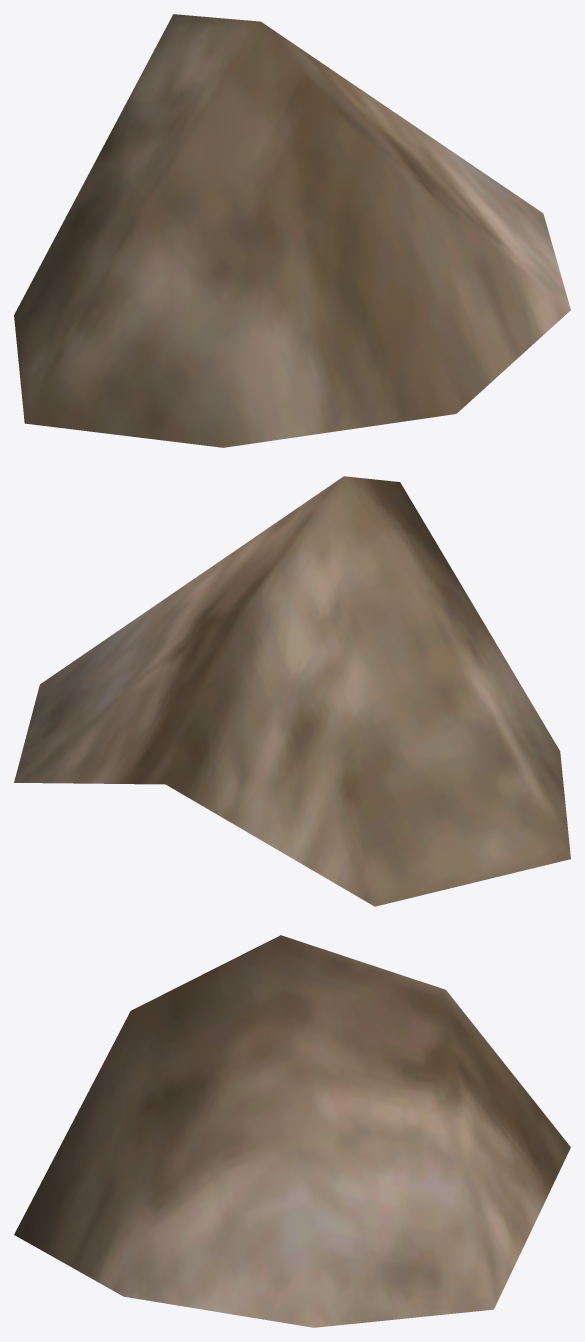
Rendered from OVERHILL_A_01_ROCK66.fbx.
The picture shows the model from 3 angles, top to bottom: view 1: azimuth 30°, elevation 25°; view 2: azimuth 150°, elevation 25°; view 3: azimuth 270°, elevation 25°; orthographic projection. The views are drawn at different scales.
Parts seen in each view (by area): view 1: OVERHILL_A_01_ROCK66; view 2: OVERHILL_A_01_ROCK66; view 3: OVERHILL_A_01_ROCK66.
Part boxes in pixels (x1,y1,x2,y2): OVERHILL_A_01_ROCK66: (14,14,570,447); OVERHILL_A_01_ROCK66: (14,476,570,906); OVERHILL_A_01_ROCK66: (14,935,570,1327).
Bounding box in the file's own units: 2340 × 1430 × 2273.
Materials: 1 (1 with a texture image).
